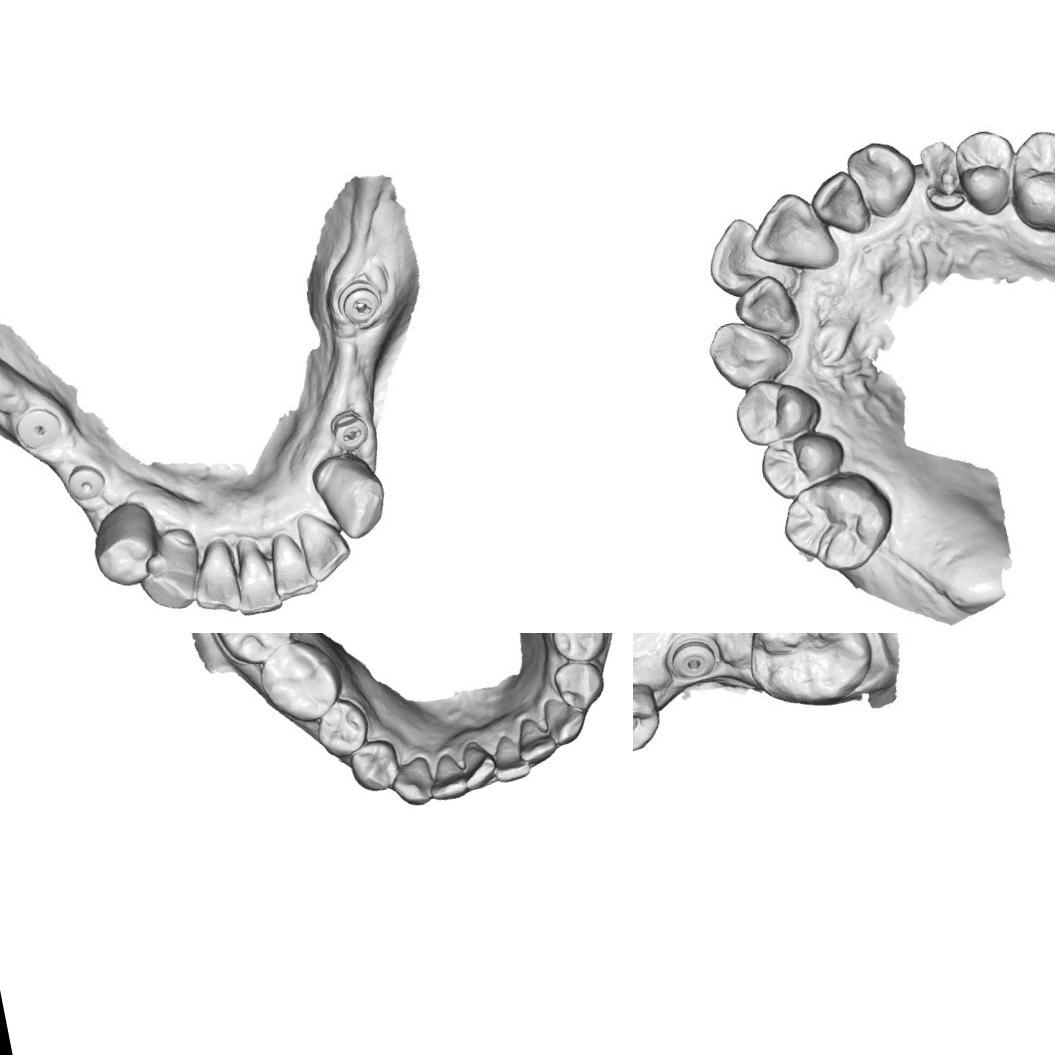canine: (307, 446, 394, 546), (701, 307, 792, 392), (130, 522, 210, 616), (844, 136, 922, 223), (387, 753, 438, 811), (541, 691, 590, 748)
implant: (648, 633, 737, 700), (9, 402, 68, 456), (62, 458, 109, 506)
implant_minus: (332, 274, 388, 330), (324, 405, 373, 455)
incisor: (750, 191, 838, 273), (184, 534, 248, 620), (702, 216, 774, 292), (293, 502, 356, 586), (736, 271, 801, 345), (225, 538, 284, 619), (264, 525, 321, 604), (815, 170, 874, 241), (512, 711, 560, 768), (421, 748, 470, 802), (488, 729, 533, 782), (456, 736, 500, 790)
molar: (778, 468, 900, 582), (736, 633, 885, 724), (254, 633, 350, 730), (756, 424, 848, 504), (1003, 121, 1055, 236), (205, 633, 298, 669)
premolar: (941, 123, 1023, 223), (83, 497, 168, 593), (734, 374, 820, 448), (310, 694, 373, 762), (548, 654, 610, 715), (346, 734, 404, 795), (633, 671, 667, 765), (546, 633, 608, 664)
